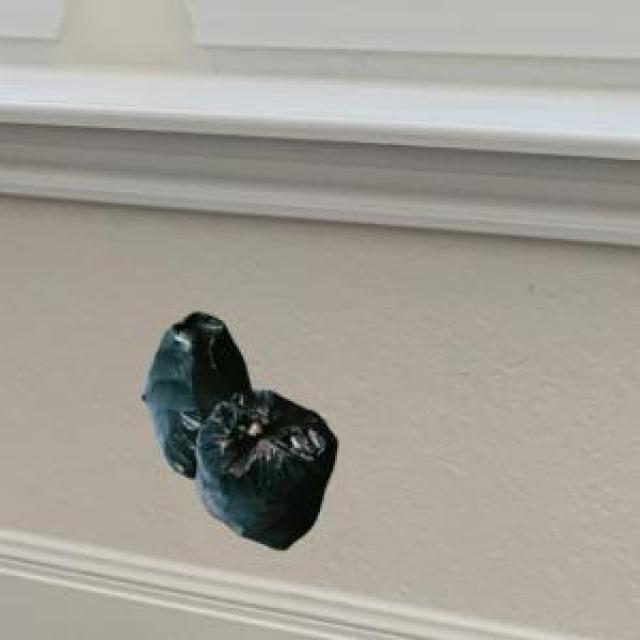garbage_bag: (137, 305, 342, 553)
